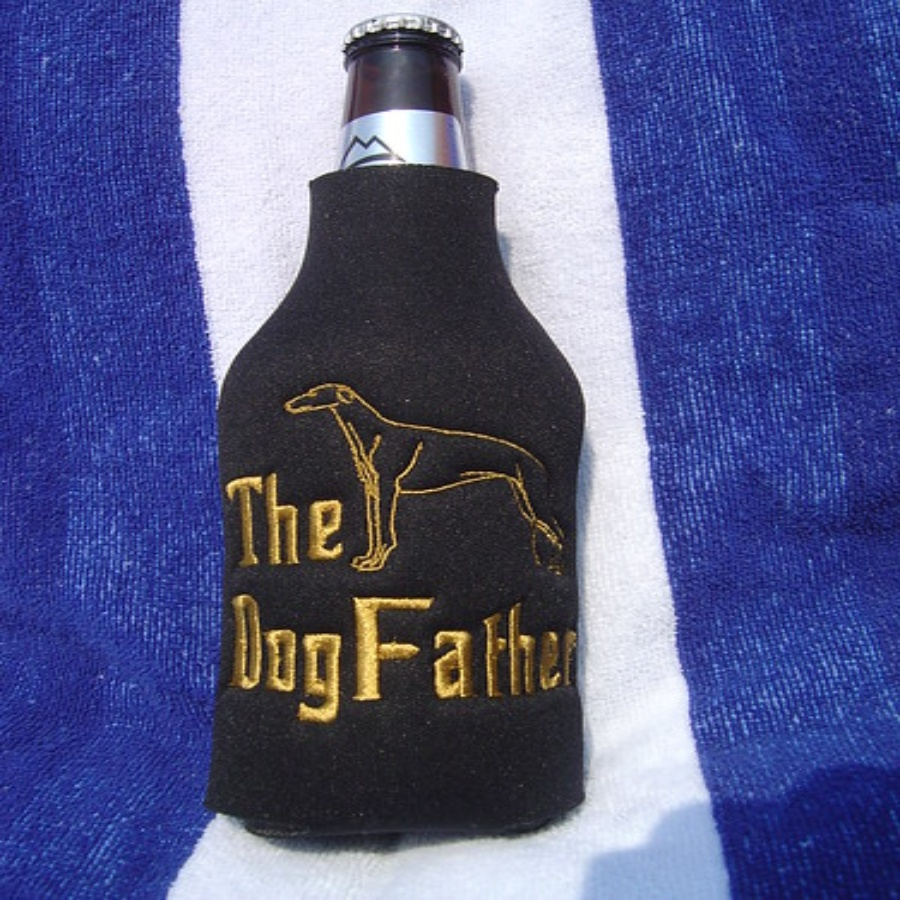beer: (319, 7, 504, 178)
